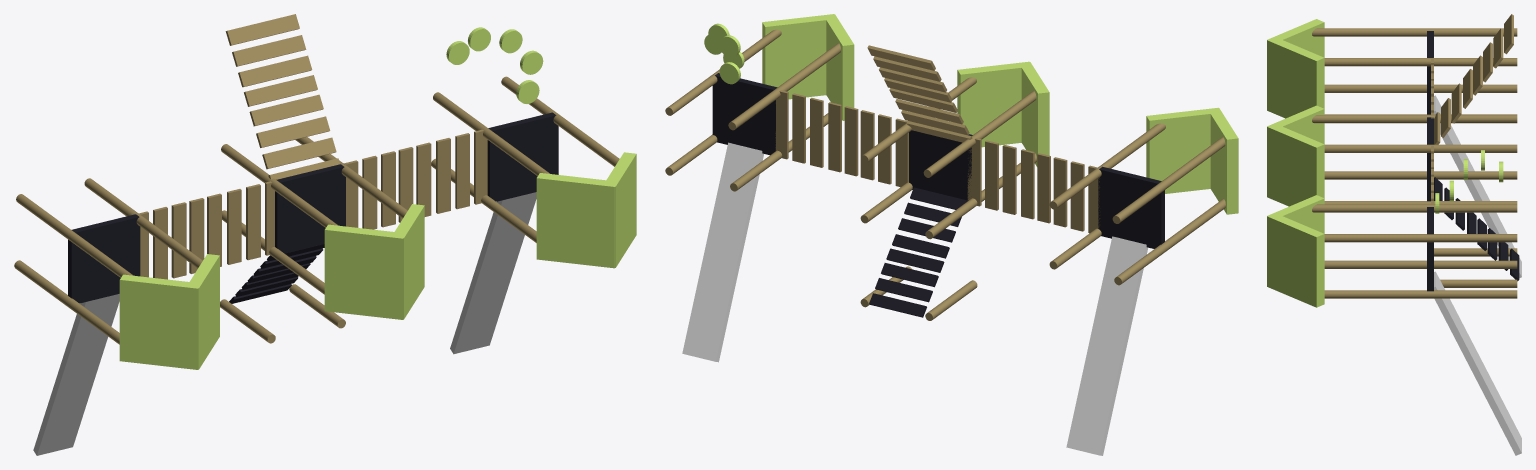
The model's file is leber-lgik-803.glb.
3 views of the same model, side by side, from view 1: azimuth 30°, elevation 25°; view 2: azimuth 150°, elevation 25°; view 3: azimuth 270°, elevation 25° (orthographic). The views are drawn at different scales.
Visible parts, largest first — view 1: bridge.002, bridge.001, bridge, Cube.014, Cube.016, Cube.018, Cube.025, Cube.024, Cube.020, Cube.022, Cube.021, Cube.019 (+14 smaller); view 2: Cube.025, Cube.024, bridge.001, bridge, bridge.003, bridge.002, Cube.015, Cube.019, Cube.017, Cube.020, Cube.022, Cube.021 (+16 smaller); view 3: Cube.019, Cube.017, Cube.015, bridge.002, Cube.025, Cylinder.034, Cylinder.033, Cylinder.032, Cylinder.029, Cylinder.031, Cylinder.026, Cylinder.030 (+14 smaller).
Part boxes in pixels (x1,y1,x2,y2): bridge.002: [225, 14, 339, 179]; bridge.001: [343, 129, 487, 229]; bridge: [138, 181, 274, 279]; Cube.014: [119, 274, 200, 369]; Cube.016: [324, 224, 405, 319]; Cube.018: [536, 173, 617, 268]; Cube.025: [450, 192, 536, 354]; Cube.024: [33, 294, 119, 455]; Cube.020: [68, 214, 140, 303]; Cube.022: [487, 112, 558, 201]; Cube.021: [275, 164, 345, 253]; Cube.019: [603, 152, 636, 267]; Cube.025: [682, 142, 763, 362]; Cube.024: [1066, 236, 1147, 455]; bridge.001: [775, 90, 908, 187]; bridge: [967, 138, 1100, 233]; bridge.003: [869, 187, 967, 317]; bridge.002: [867, 45, 972, 142]; Cube.015: [1146, 107, 1220, 193]; Cube.019: [762, 14, 835, 99]; Cube.017: [957, 61, 1032, 147]; Cube.020: [1098, 166, 1164, 248]; Cube.022: [712, 73, 777, 155]; Cube.021: [909, 130, 972, 200]; Cube.019: [1267, 214, 1324, 307]; Cube.017: [1267, 126, 1324, 206]; Cube.015: [1267, 37, 1324, 118]; bridge.002: [1434, 14, 1513, 144]; Cube.025: [1434, 271, 1521, 455]; Cylinder.034: [1312, 204, 1517, 212]; Cylinder.033: [1324, 234, 1517, 242]; Cylinder.032: [1324, 290, 1517, 298]; Cylinder.029: [1324, 144, 1517, 152]; Cylinder.031: [1324, 260, 1517, 268]; Cylinder.026: [1312, 28, 1517, 36]; Cylinder.030: [1312, 115, 1517, 123].
Size of the model in its own units: 6.19 by 4.36 by 3.05.
